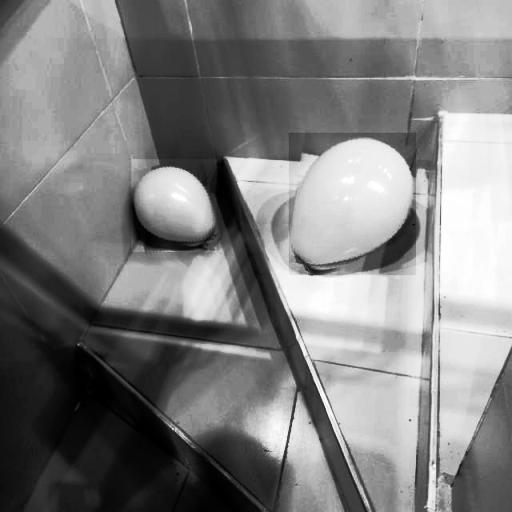balloon: (289, 133, 416, 275), (131, 159, 217, 252)
